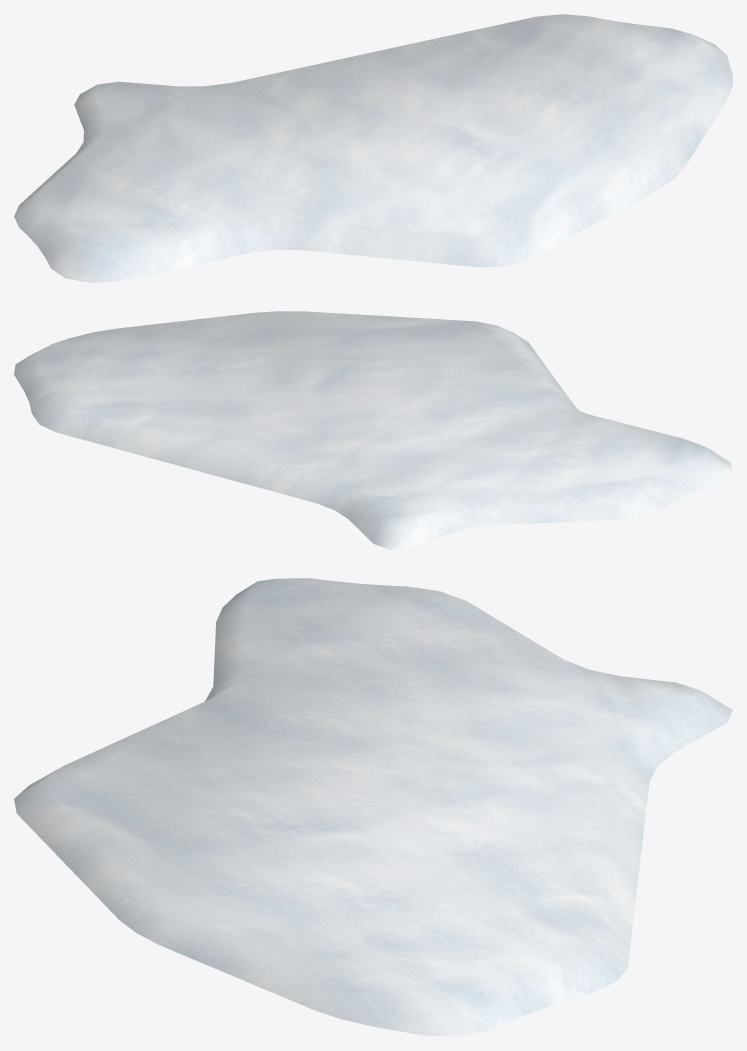
The model's file is Ice_05_Snow.fbx.
3 views of the same model, one above another, from view 1: azimuth 30°, elevation 25°; view 2: azimuth 150°, elevation 25°; view 3: azimuth 270°, elevation 25° (orthographic). The views are drawn at different scales.
Visible parts, largest first — view 1: Ice_05_Snow; view 2: Ice_05_Snow; view 3: Ice_05_Snow.
Part boxes in pixels (x1,y1,x2,y2): Ice_05_Snow: (14, 14, 732, 282); Ice_05_Snow: (14, 311, 732, 549); Ice_05_Snow: (14, 578, 732, 1036).
Bounding box in the file's own units: 603 × 406 × 14.05.
